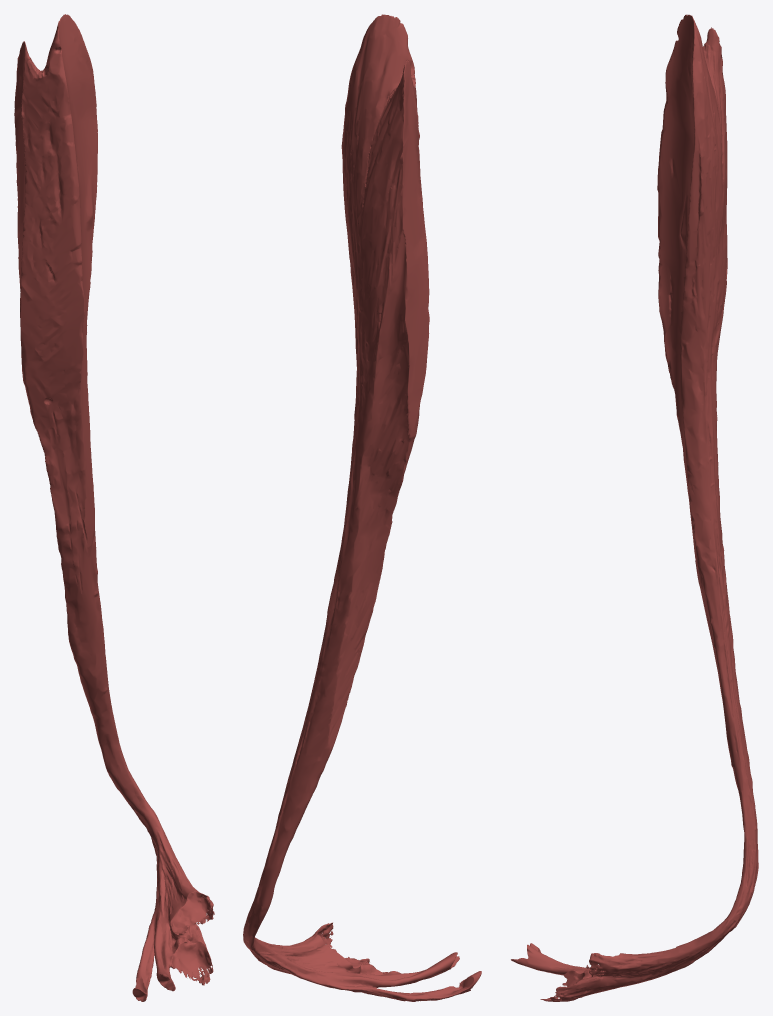
File: FMA65018.glb
3 renders of one model, left to right at view 1: azimuth 30°, elevation 25°; view 2: azimuth 150°, elevation 25°; view 3: azimuth 270°, elevation 25°, orthographic. The views are drawn at different scales.
Visible parts, largest first — view 1: FMA65018; view 2: FMA65018; view 3: FMA65018.
Part boxes in pixels (left/top/right/bottom): FMA65018: left=14, top=14, right=214, bottom=1001; FMA65018: left=243, top=14, right=481, bottom=1001; FMA65018: left=511, top=14, right=758, bottom=1001.
Bounding box in the file's own units: 0.057 × 0.3331 × 0.0788.
